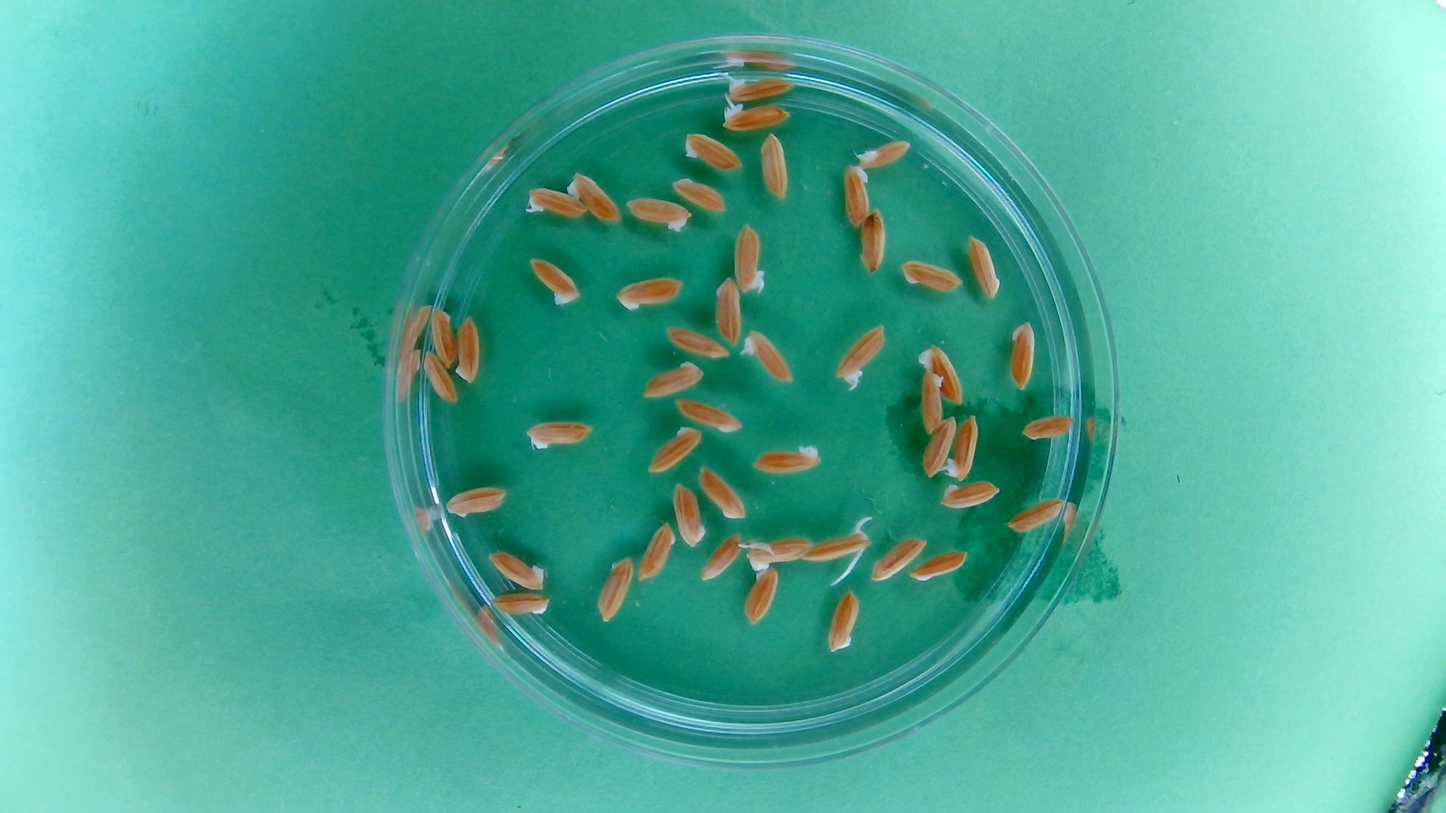no: (918, 340, 969, 405), (740, 328, 796, 385), (567, 170, 623, 226), (645, 423, 703, 476), (697, 464, 749, 522), (612, 273, 687, 313), (526, 254, 581, 308), (595, 553, 636, 623), (681, 129, 746, 173), (870, 534, 928, 583), (639, 359, 706, 401), (622, 195, 694, 234), (672, 396, 744, 435), (485, 548, 548, 592), (1005, 492, 1069, 535), (749, 443, 824, 479), (943, 413, 981, 483), (966, 233, 1004, 303), (897, 257, 965, 296), (920, 413, 959, 480), (1005, 318, 1039, 394), (824, 588, 862, 656), (637, 520, 678, 583), (663, 324, 732, 361), (523, 417, 595, 452), (670, 480, 706, 548), (742, 565, 782, 626), (758, 131, 792, 202), (712, 274, 745, 347), (444, 483, 510, 519), (670, 175, 729, 215), (856, 206, 889, 276), (840, 161, 873, 230), (452, 314, 484, 385), (700, 531, 743, 582), (938, 478, 1001, 512), (420, 349, 457, 406), (1019, 410, 1077, 446), (909, 549, 970, 583), (854, 137, 914, 171), (746, 542, 816, 571), (917, 367, 945, 436), (491, 589, 553, 619), (428, 305, 457, 368)
yes: (834, 322, 888, 387), (731, 221, 768, 297), (803, 526, 872, 565), (723, 72, 796, 102), (525, 185, 588, 219), (721, 101, 790, 132)
